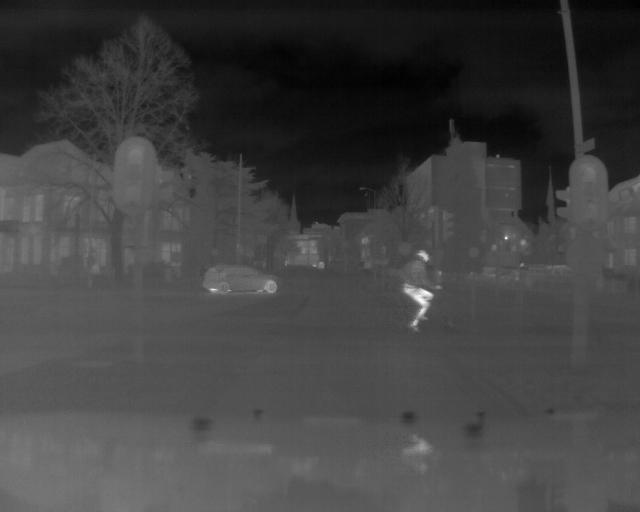car: (201, 262, 284, 296)
person: (391, 241, 447, 335)
